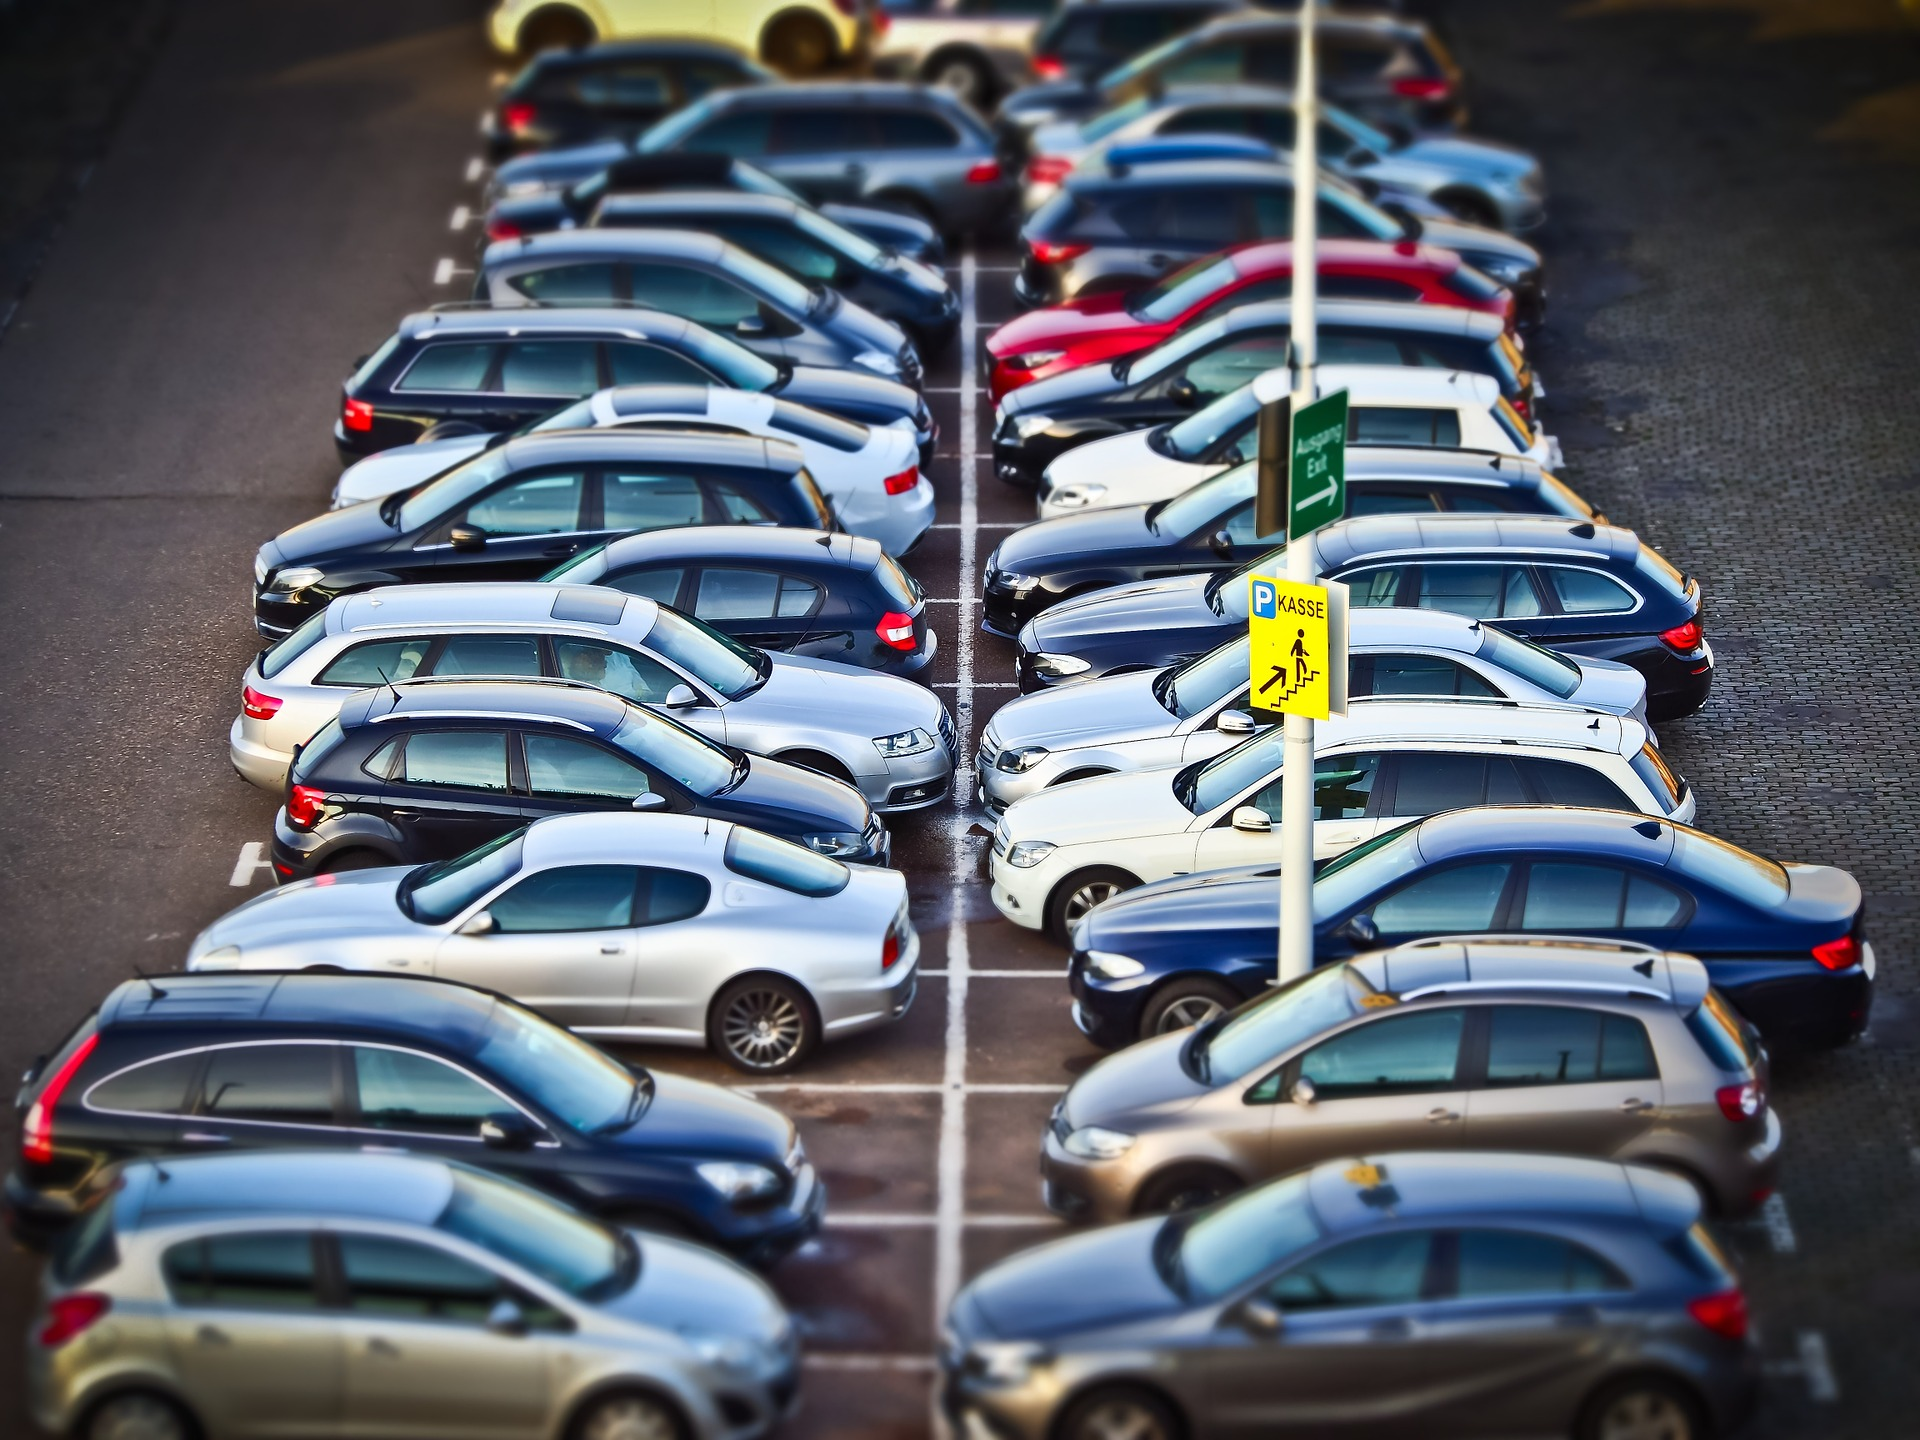Car: (943, 1153, 1755, 1440), (5, 976, 824, 1255), (29, 1153, 797, 1440), (1042, 936, 1782, 1221), (1064, 808, 1875, 1054), (189, 814, 918, 1072), (987, 693, 1698, 951), (231, 584, 955, 811), (974, 605, 1658, 823), (1016, 510, 1714, 722), (251, 428, 839, 643), (271, 679, 889, 880), (980, 443, 1607, 641), (333, 383, 936, 563), (990, 299, 1536, 496), (334, 307, 939, 470), (981, 236, 1522, 414), (1011, 160, 1547, 339), (479, 83, 1016, 242), (1019, 82, 1548, 234), (1036, 365, 1551, 520), (464, 227, 925, 395), (993, 14, 1468, 163), (537, 523, 937, 685), (593, 189, 965, 349), (473, 151, 945, 268), (482, 42, 791, 169), (1099, 141, 1465, 224), (488, 0, 865, 70), (1031, 0, 1296, 88), (868, 0, 1066, 109)
